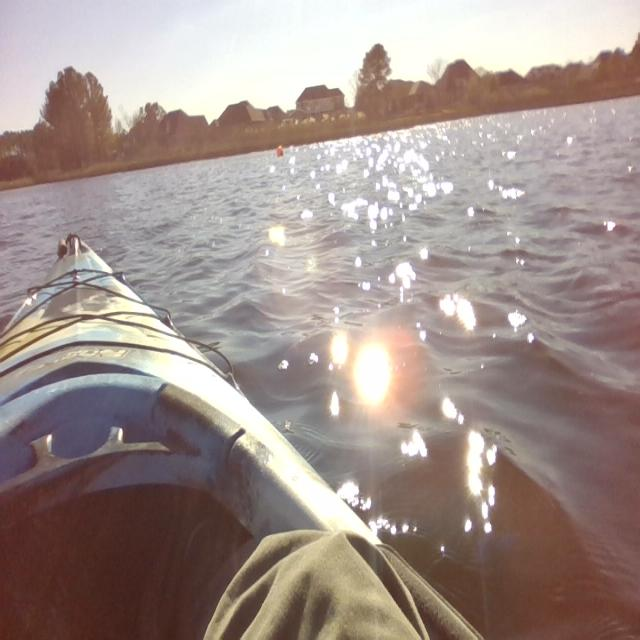Buoy: (274, 140, 286, 161)
